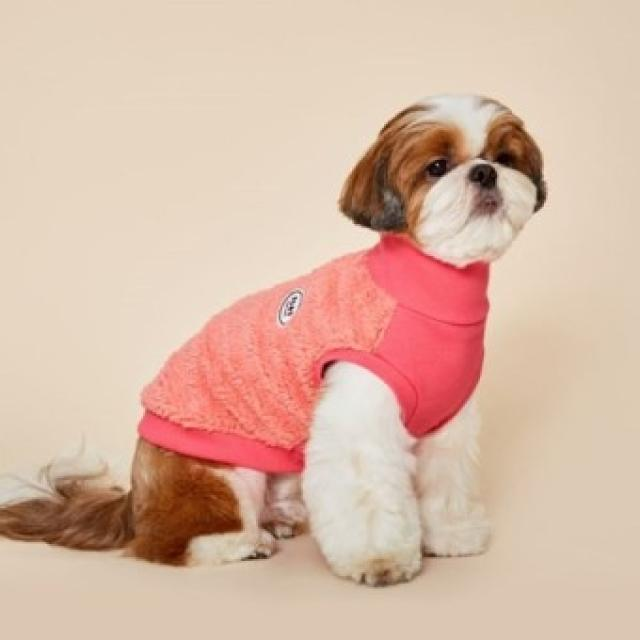cloth: (142, 234, 489, 472)
